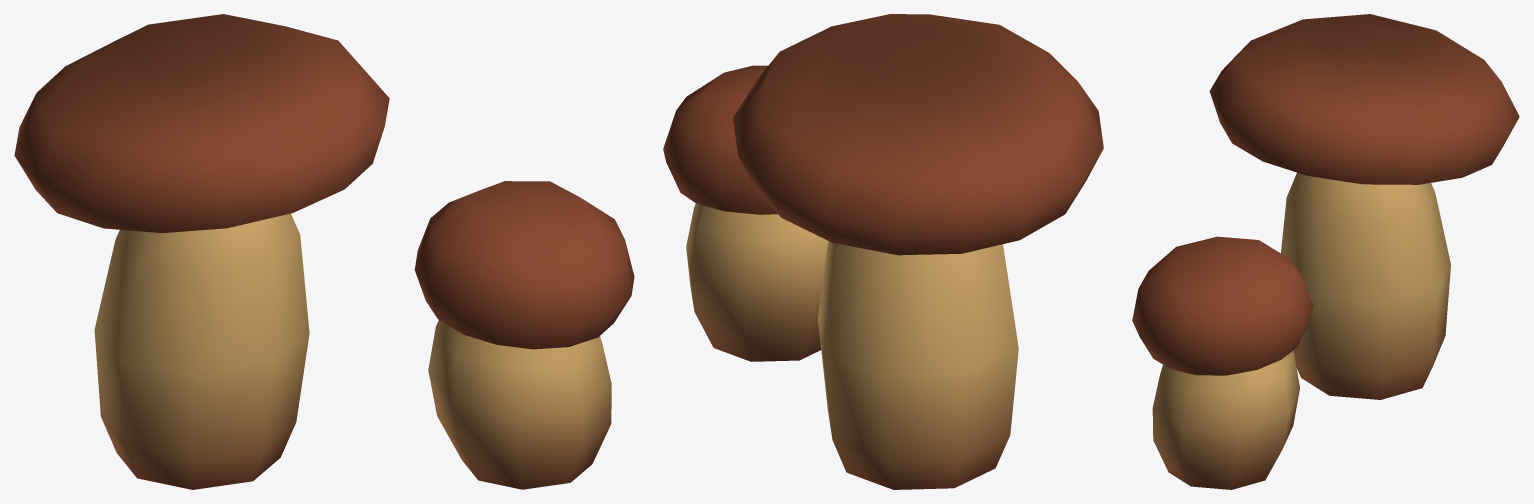
The model's file is Bay_Bolete_Group_1.fbx.
3 renders of one model, left to right at view 1: azimuth 30°, elevation 25°; view 2: azimuth 150°, elevation 25°; view 3: azimuth 270°, elevation 25°, orthographic. The views are drawn at different scales.
Visible parts, largest first — view 1: Bay_Bolete_Group_1; view 2: Bay_Bolete_Group_1; view 3: Bay_Bolete_Group_1.
Boxes of the visible parts, x1=… form: Bay_Bolete_Group_1: x1=14, y1=14, x2=634, y2=489; Bay_Bolete_Group_1: x1=663, y1=14, x2=1103, y2=489; Bay_Bolete_Group_1: x1=1132, y1=14, x2=1519, y2=489.
Size of the model in its own units: 20.22 by 16.39 by 16.7.
